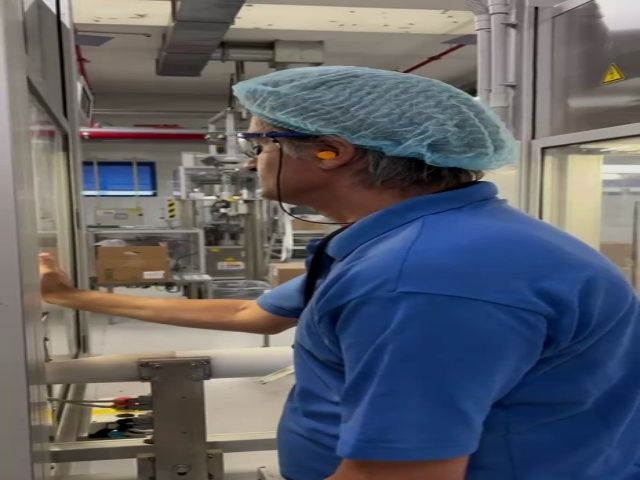Earplug: (313, 135, 356, 170)
Hairnet: (233, 63, 516, 171)
No_Helmet: (235, 65, 513, 166)
No_Vest: (281, 213, 640, 480)
Person: (2, 65, 640, 480)
Safety_Goggles: (234, 131, 319, 159)
